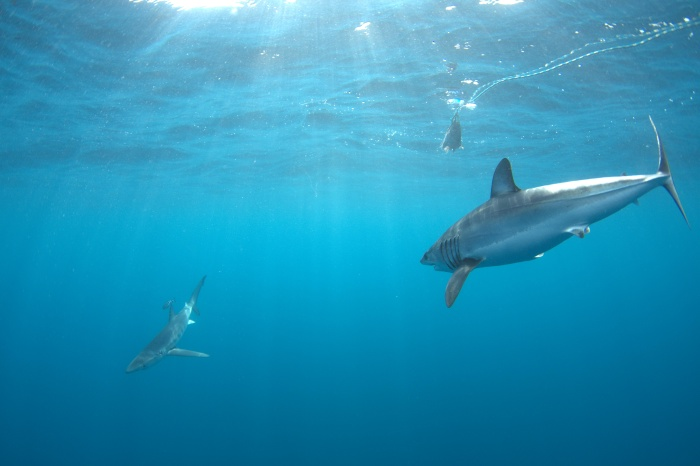Mako: (414, 115, 692, 312)
